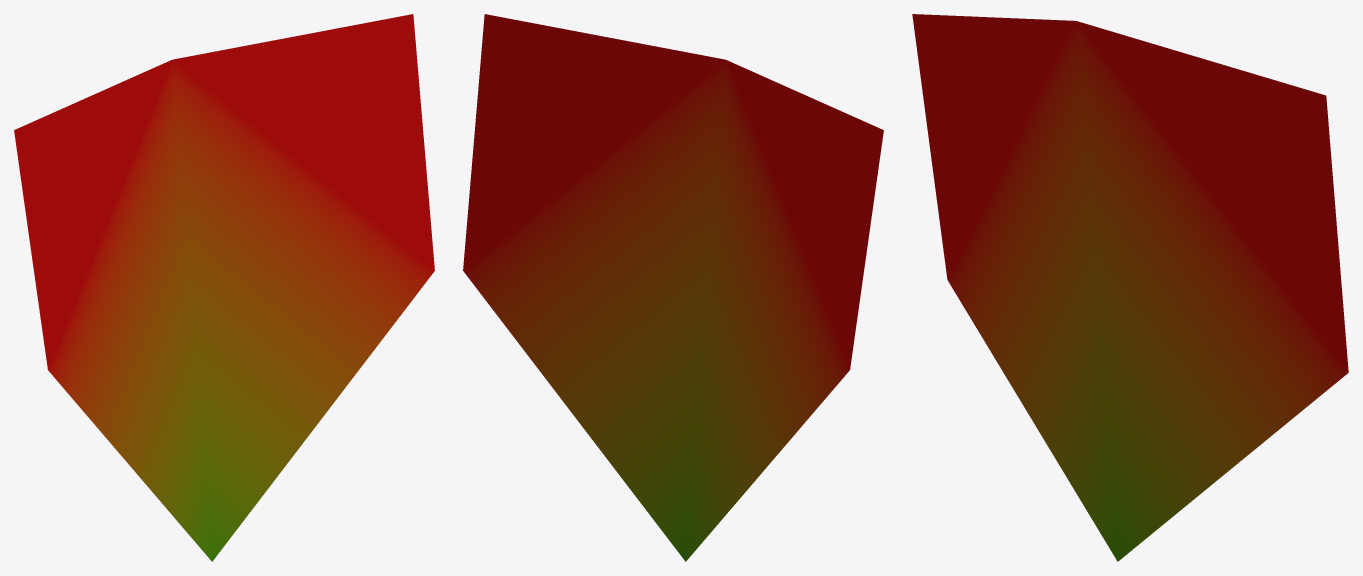
Rendered from Pink Cordyline_LOD3_Var4_sfhhN.fbx.
The picture shows the model from 3 angles, left to right: view 1: azimuth 30°, elevation 25°; view 2: azimuth 150°, elevation 25°; view 3: azimuth 330°, elevation 25°; orthographic projection. The views are drawn at different scales.
Parts seen in each view (by area): view 1: _c77b_Var4_LOD3; view 2: _c77b_Var4_LOD3; view 3: _c77b_Var4_LOD3.
Boxes of the visible parts, x1,y1,x2,y2 form: _c77b_Var4_LOD3: [14, 14, 434, 561]; _c77b_Var4_LOD3: [463, 14, 883, 561]; _c77b_Var4_LOD3: [912, 14, 1348, 561].
Bounding box in the file's own units: 85.84 × 99.79 × 3.81e-06.
